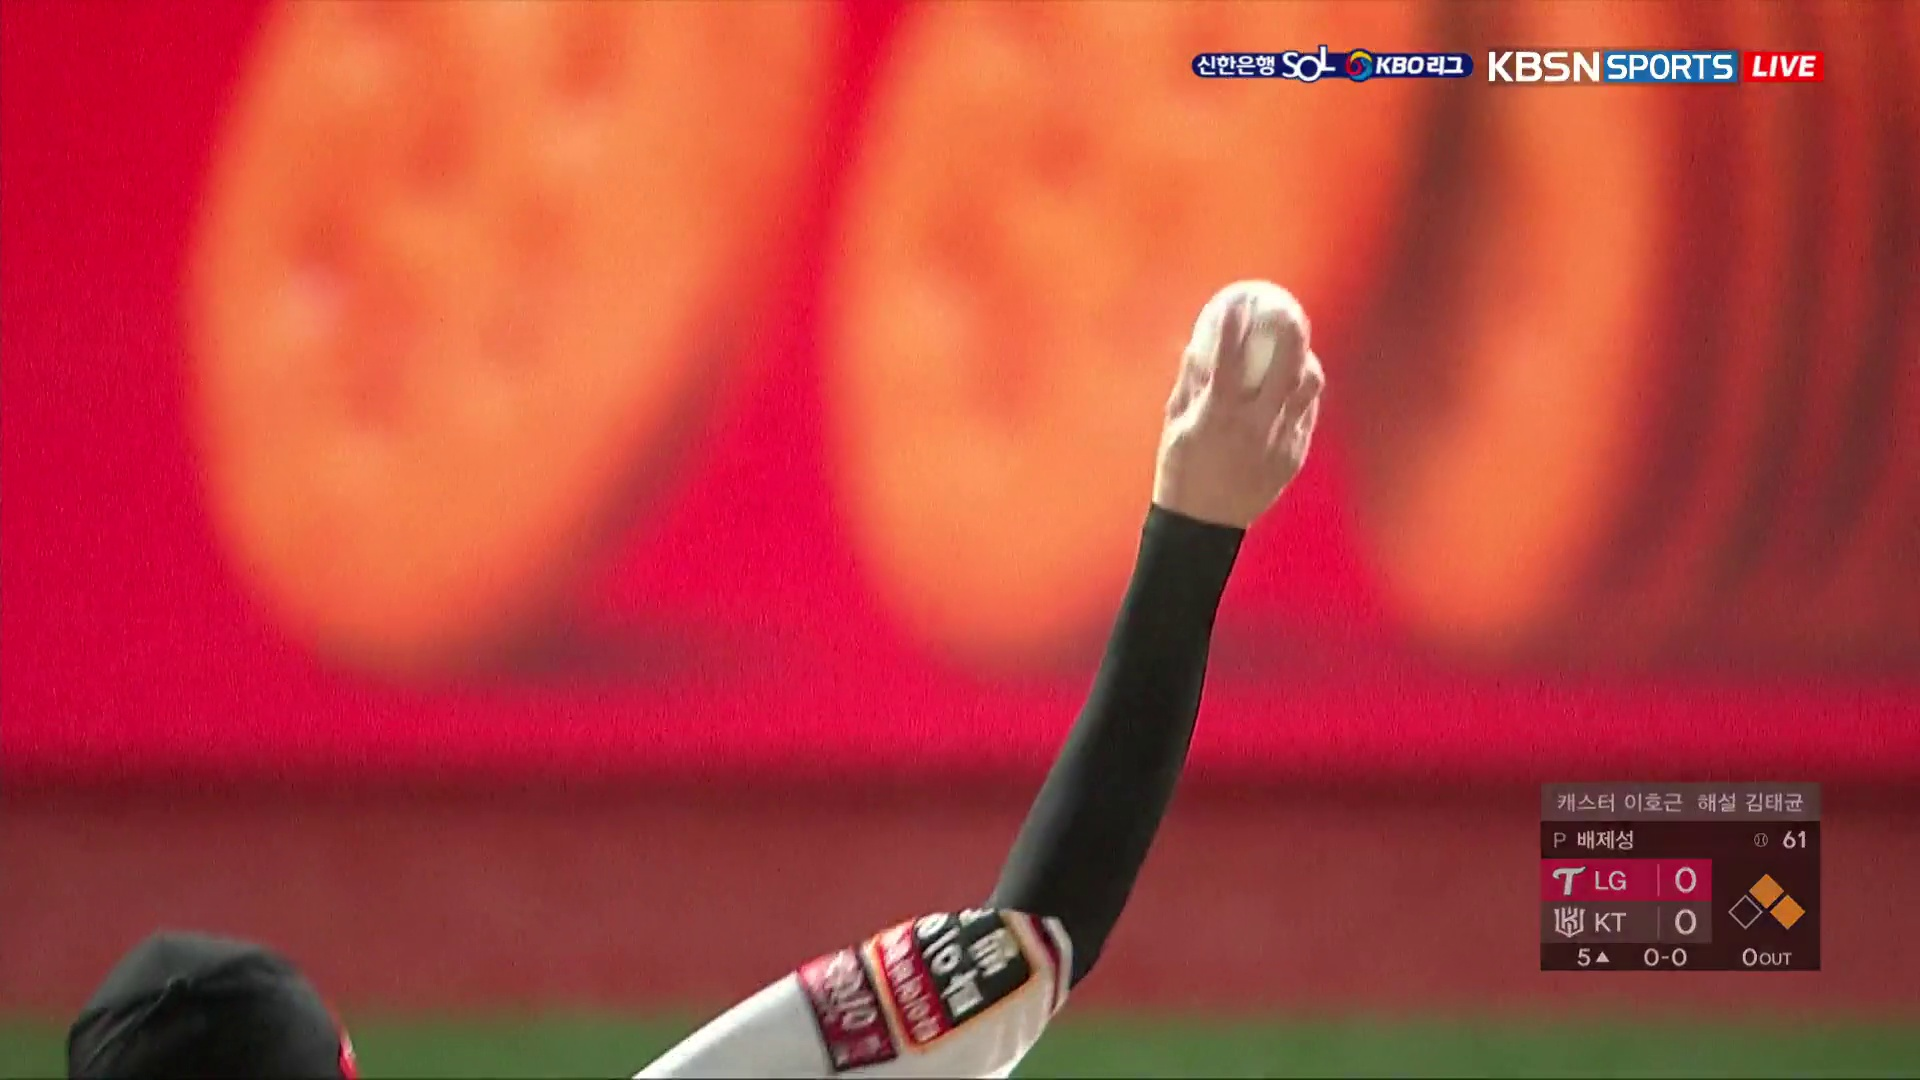zoomin_hand: (957, 274, 1333, 1033)
